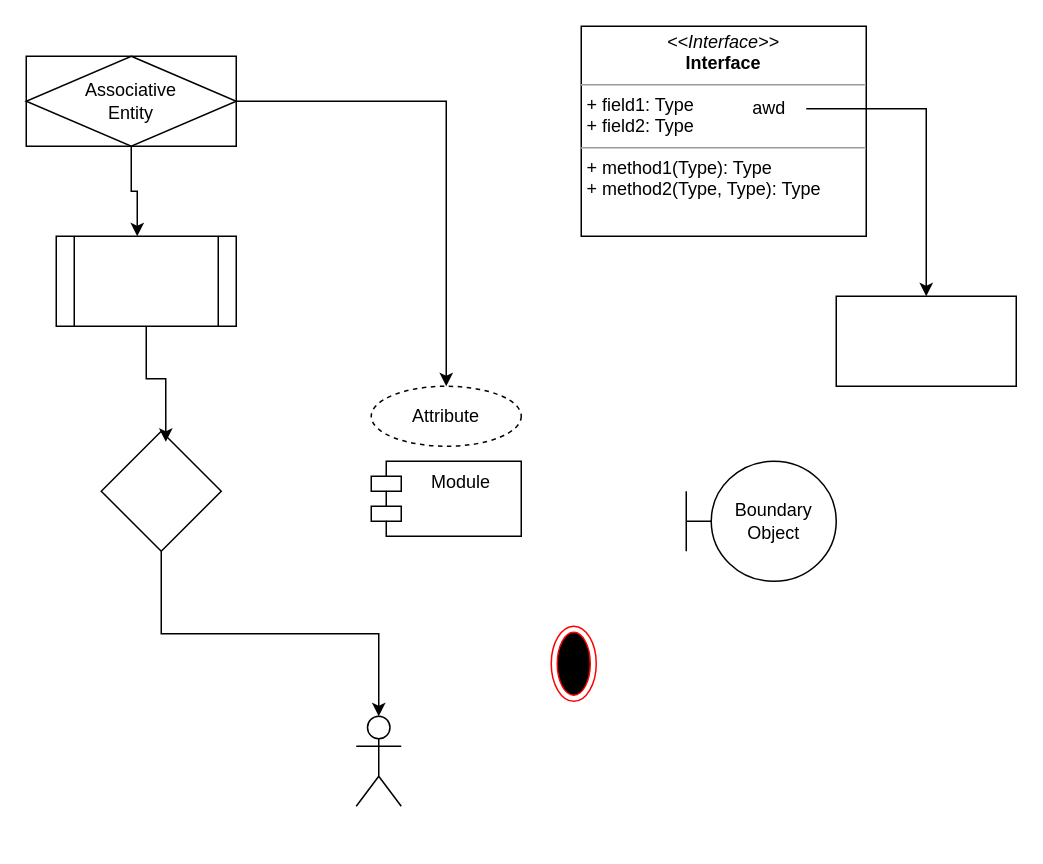
Some shapes in this 1043 by 864 pixel diagram are drawn without their labels. Each missing label, with the centre of its shape:
"Actor" belongs at (378,760).
"awdawd" belongs at (925,340).
